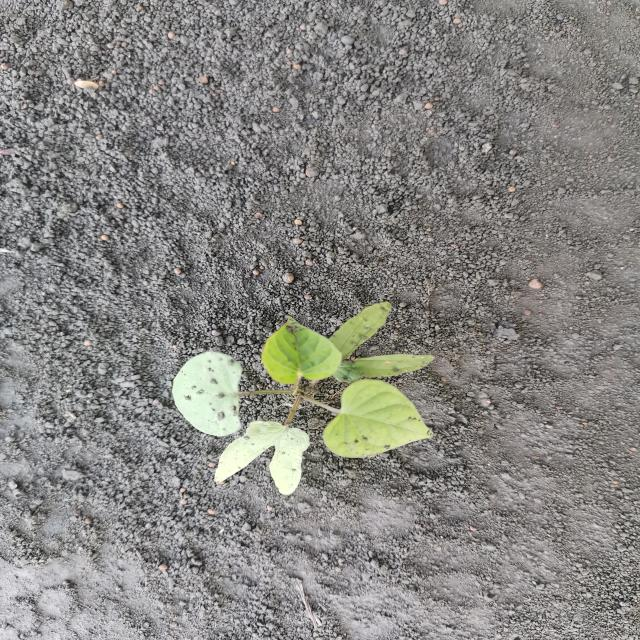MorningGlory: (167, 300, 443, 500)
